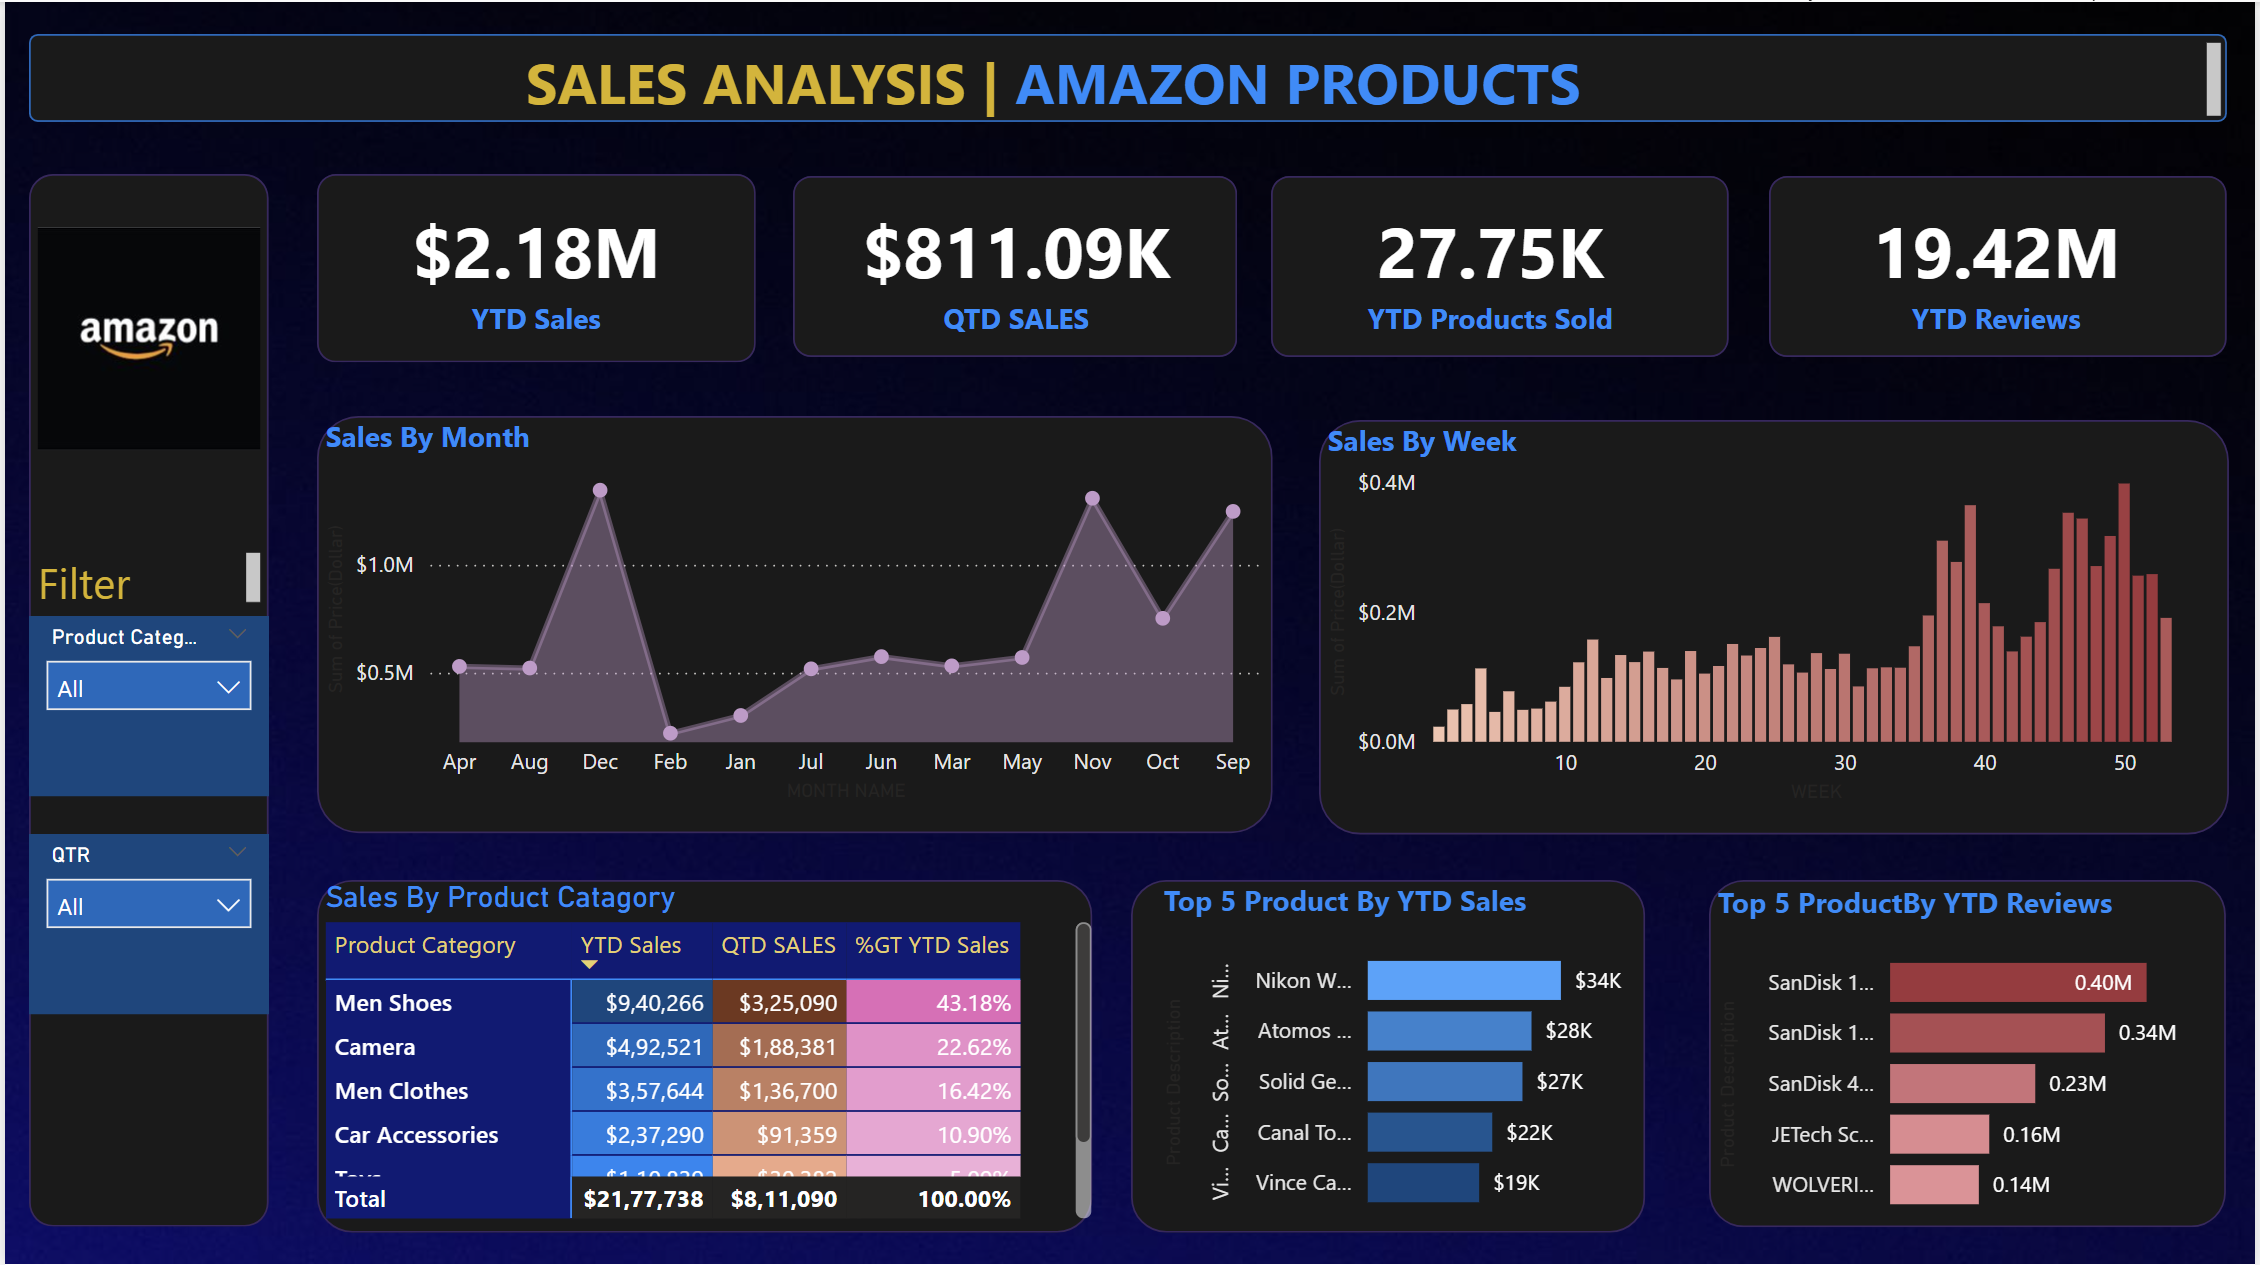

The dashboard page shown, as its layout file describes it:
{"tool":"powerbi","page":{"name":"Page 1","canvas":[1280,720],"ordinal":0},"visuals":[{"type":"shape","box":[177.6,98,249.6,107.2],"z":0,"group":"g1"},{"type":"shape","box":[13.8,18.4,1250,50],"z":0},{"type":"card","fields":{"Values":["Amazon_Data.YTD Sales"]},"box":[177.6,103.6,249.6,95.9],"z":1000,"group":"g1"},{"type":"textbox","box":[290.9,18.4,973.8,52.1],"z":1000},{"type":"shape","box":[448.6,99.4,252.6,102.9],"z":2000,"group":"g1"},{"type":"shape","box":[13.8,98,136.3,598.7],"z":2000},{"type":"shape","box":[719.6,99.4,260.3,102.9],"z":3000,"group":"g1"},{"type":"group","id":"g1","title":"Group 1","box":[177.6,98,1085.6,107.2],"z":3000},{"type":"shape","box":[1002.9,99.4,260.3,102.9],"z":4000,"group":"g1"},{"type":"shape","box":[177.6,235.8,543.5,237.3],"z":4000},{"type":"card","fields":{"Values":["Amazon_Data.QTD SALES"]},"box":[450.1,103.6,249.6,95.9],"z":5000,"group":"g1"},{"type":"areaChart","title":"Sales By Month","fields":{"Category":["Date Table.MONTH NAME"],"Y":["Amazon_Data.Price(Dollar)"]},"box":[177.6,235.8,542,223.5],"z":5000},{"type":"card","fields":{"Values":["Amazon_Data.YTD Products Sold"]},"box":[719.6,103.6,249.6,95.9],"z":6000,"group":"g1"},{"type":"shape","box":[747.2,237.3,517.5,235.8],"z":6000},{"type":"card","fields":{"Values":["Amazon_Data.YTD Reviews"]},"box":[1007.5,103.6,249.6,95.9],"z":7000,"group":"g1"},{"type":"columnChart","title":"Sales By Week","fields":{"Category":["Date Table.WEEK"],"Y":["Amazon_Data.Price(Dollar)"]},"box":[747.2,237.3,509.9,222],"z":7000},{"type":"shape","box":[177.6,499.1,441,200.6],"z":8000},{"type":"pivotTable","title":"Sales By Product Catagory","fields":{"Rows":["Amazon_Data.Product Category"],"Values":["Amazon_Data.YTD Sales1","Amazon_Data.QTD SALES","Amazon_Data.YTD Sales"]},"box":[177.6,499.1,445.6,197.5],"z":9000},{"type":"shape","box":[640,499.1,292.4,200.6],"z":10000},{"type":"shape","box":[969.2,499.1,294,197.5],"z":11000},{"type":"clusteredBarChart","title":"Top 5 Product By YTD Sales","fields":{"Category":["Amazon_Data.Product Description","Amazon_Data.Product Description"],"Y":["Amazon_Data.YTD Sales","Amazon_Data.YTD Sales"]},"box":[653.8,499.1,278.7,200.6],"z":12000},{"type":"clusteredBarChart","title":"Top 5 ProductBy YTD Reviews ","fields":{"Category":["Amazon_Data.Product Description"],"Y":["Amazon_Data.YTD Reviews"]},"box":[969.2,500.7,294,200.6],"z":13000},{"type":"slicer","fields":{"Values":["Amazon_Data.Product Category"]},"box":[13.8,349.1,136.3,102.6],"z":14000},{"type":"slicer","fields":{"Values":["Date Table.QTR"]},"box":[13.8,473.1,136.3,102.6],"z":15000},{"type":"image","box":[13.8,99.5,136.3,185.3],"z":16000},{"type":"textbox","box":[13.8,307.8,136.3,39.8],"z":17000}]}

Visuals, with their boxes in screenshot pixels (x1, y1, x2, y2), scaled from the page's 1280x720 canvas onto the 2260x1265 screenshot:
shape: [left=314, top=172, right=754, bottom=361]
shape: [left=24, top=32, right=2231, bottom=120]
card - Amazon_Data.YTD Sales: [left=314, top=182, right=754, bottom=351]
textbox: [left=514, top=32, right=2233, bottom=124]
shape: [left=792, top=175, right=1238, bottom=355]
shape: [left=24, top=172, right=265, bottom=1224]
shape: [left=1271, top=175, right=1730, bottom=355]
"Group 1" group: [left=314, top=172, right=2230, bottom=361]
shape: [left=1771, top=175, right=2230, bottom=355]
shape: [left=314, top=414, right=1273, bottom=831]
card - Amazon_Data.QTD SALES: [left=795, top=182, right=1235, bottom=351]
"Sales By Month" areaChart: [left=314, top=414, right=1271, bottom=807]
card - Amazon_Data.YTD Products Sold: [left=1271, top=182, right=1711, bottom=351]
shape: [left=1319, top=417, right=2233, bottom=831]
card - Amazon_Data.YTD Reviews: [left=1779, top=182, right=2220, bottom=351]
"Sales By Week" columnChart: [left=1319, top=417, right=2220, bottom=807]
shape: [left=314, top=877, right=1092, bottom=1229]
"Sales By Product Catagory" pivotTable: [left=314, top=877, right=1100, bottom=1224]
shape: [left=1130, top=877, right=1646, bottom=1229]
shape: [left=1711, top=877, right=2230, bottom=1224]
"Top 5 Product By YTD Sales" clusteredBarChart: [left=1154, top=877, right=1646, bottom=1229]
"Top 5 ProductBy YTD Reviews " clusteredBarChart: [left=1711, top=880, right=2230, bottom=1232]
slicer - Amazon_Data.Product Category: [left=24, top=613, right=265, bottom=794]
slicer - Date Table.QTR: [left=24, top=831, right=265, bottom=1011]
image: [left=24, top=175, right=265, bottom=500]
textbox: [left=24, top=541, right=265, bottom=611]
